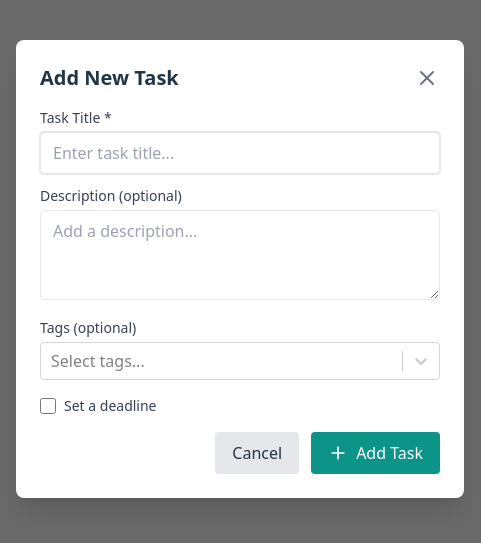
Test: Task Form Integration Tests › should not allow duplicate task titles
In the field with test id "task-title-input": (240, 153) [40, 132, 440, 174], type "Existing Task"
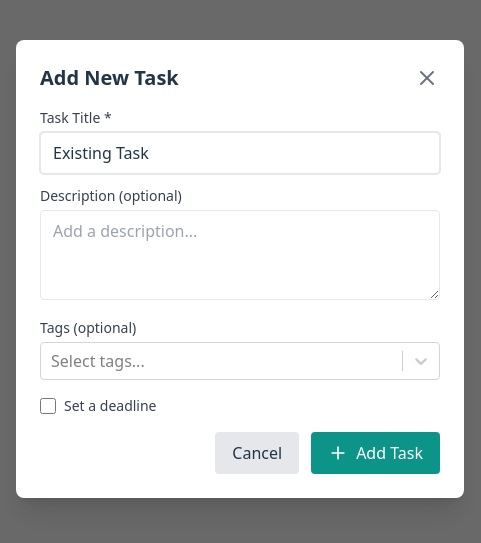
Click the button with test id "submit-button": click(376, 453) [311, 432, 440, 474]
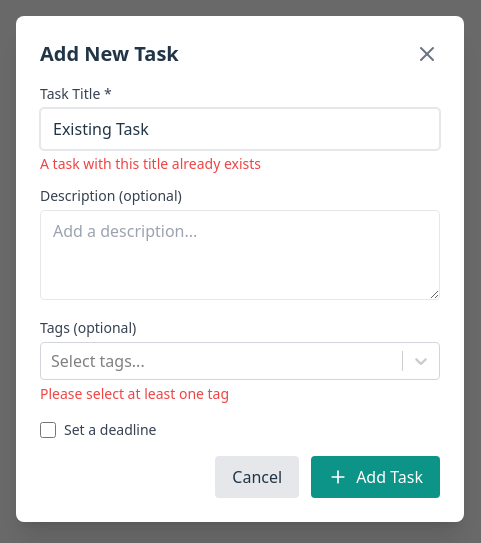
Result: the text with test id "title-error" reads "A task with this title already exists" at [40, 154, 261, 173]
